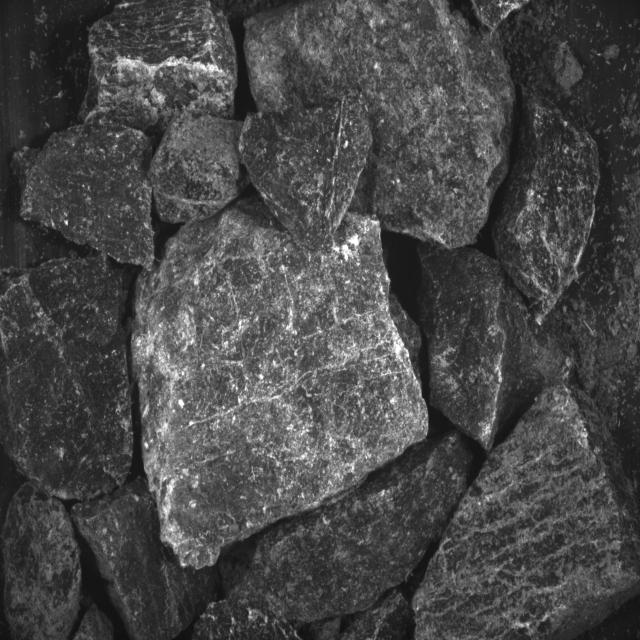Stones: (132, 199, 429, 569), (246, 1, 516, 249), (415, 387, 640, 640), (230, 433, 472, 624), (1, 256, 134, 501), (420, 248, 546, 450), (494, 96, 601, 324), (72, 479, 217, 640), (82, 1, 239, 134), (240, 99, 374, 251), (21, 126, 155, 268), (4, 484, 82, 640), (151, 112, 250, 224), (194, 601, 301, 640), (341, 590, 414, 640)
